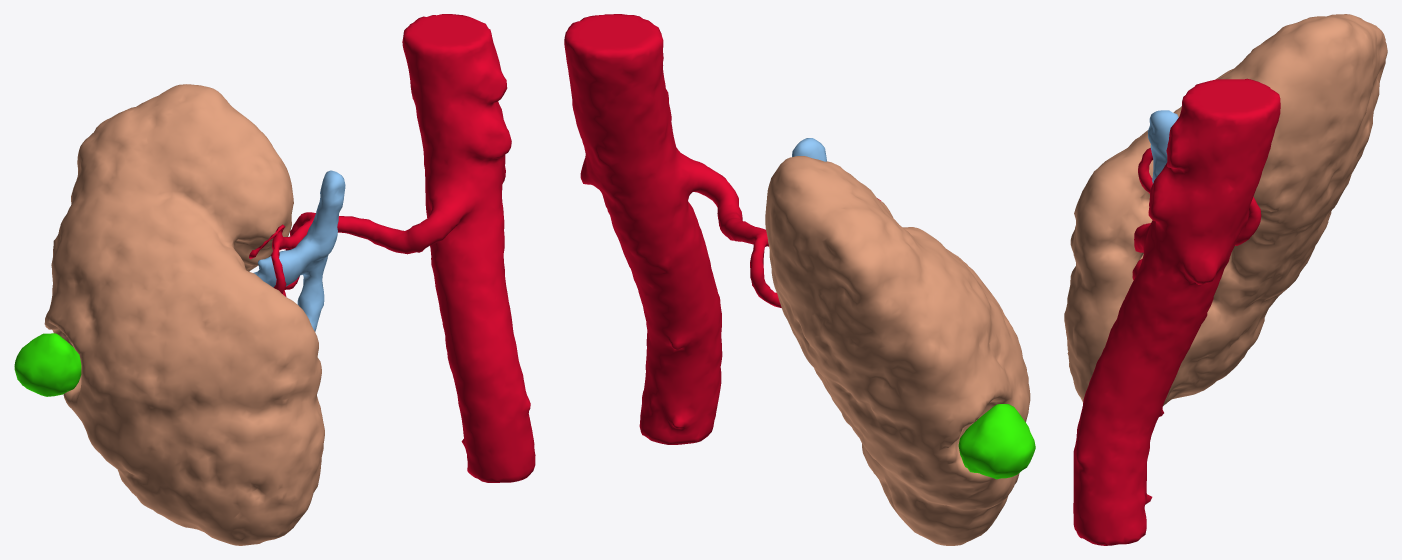
Rendered from sample.glb.
3 renders of one model, left to right at view 1: azimuth 30°, elevation 25°; view 2: azimuth 150°, elevation 25°; view 3: azimuth 270°, elevation 25°, orthographic. The views are drawn at different scales.
Parts seen in each view (by area): view 1: Rim Dir, Art Renal Dir, Veia Renal Dir, Lesao; view 2: Rim Dir, Art Renal Dir, Lesao, Veia Renal Dir; view 3: Rim Dir, Art Renal Dir, Veia Renal Dir.
Boxes of the visible parts, x1,y1,x2,y2 form: Rim Dir: (44,84,324,545); Art Renal Dir: (249,14,535,482); Veia Renal Dir: (253,170,345,331); Lesao: (14,333,81,396); Rim Dir: (765,156,1030,545); Art Renal Dir: (564,14,880,444); Lesao: (958,404,1035,479); Veia Renal Dir: (792,138,826,161); Rim Dir: (1064,14,1387,405); Art Renal Dir: (1073,78,1280,545); Veia Renal Dir: (1147,110,1178,183).
Size of the model in its own units: 134 by 120 by 77.31.
